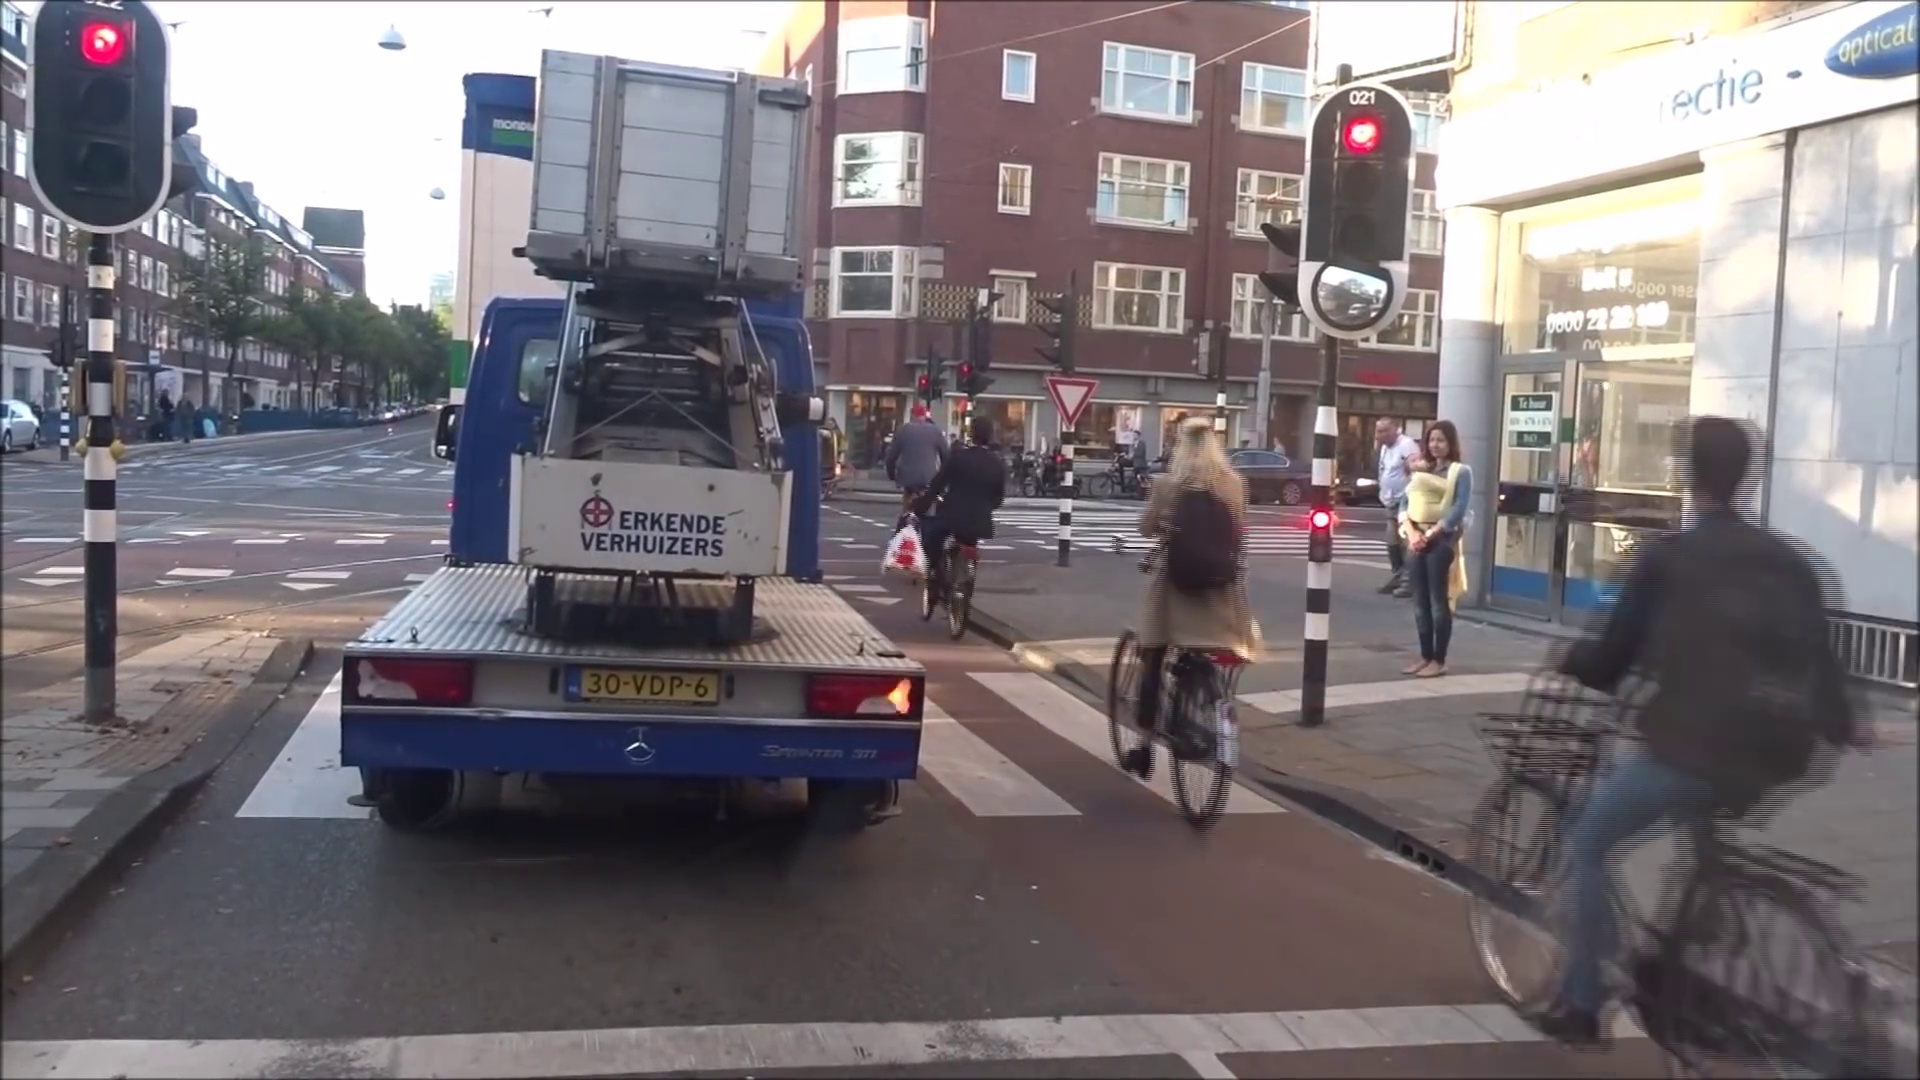cyclist_back: (1468, 412, 1883, 1065), (1122, 412, 1256, 819), (934, 421, 1004, 659), (884, 393, 931, 576)
